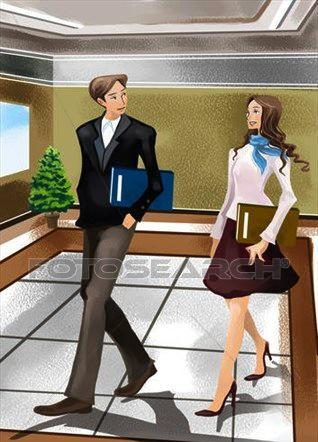person: (28, 72, 163, 415), (199, 93, 303, 420)
pottedplant: (26, 143, 75, 230)
